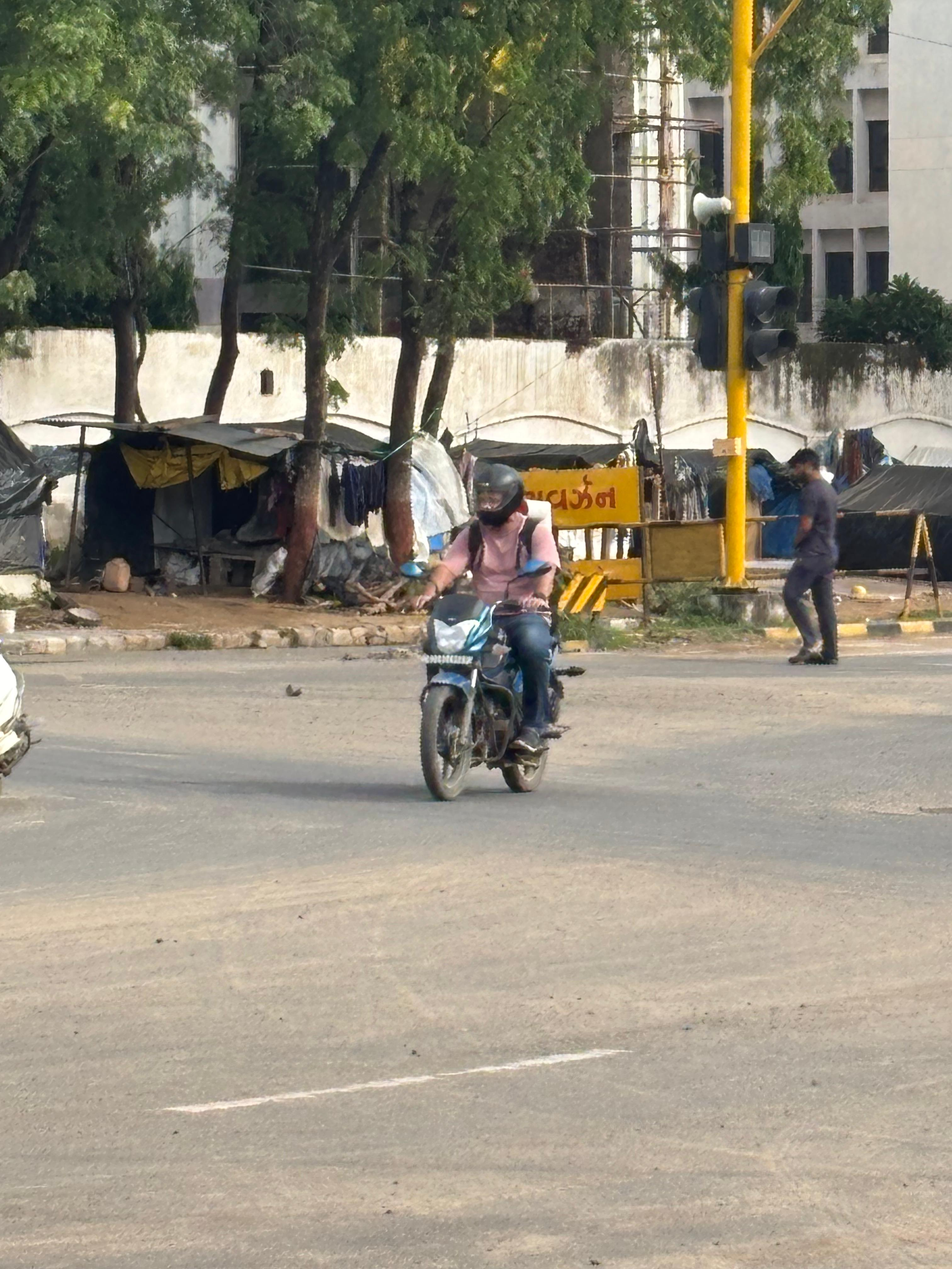BikeWithRider: (394, 460, 586, 805)
Helmet: (472, 460, 525, 530)
